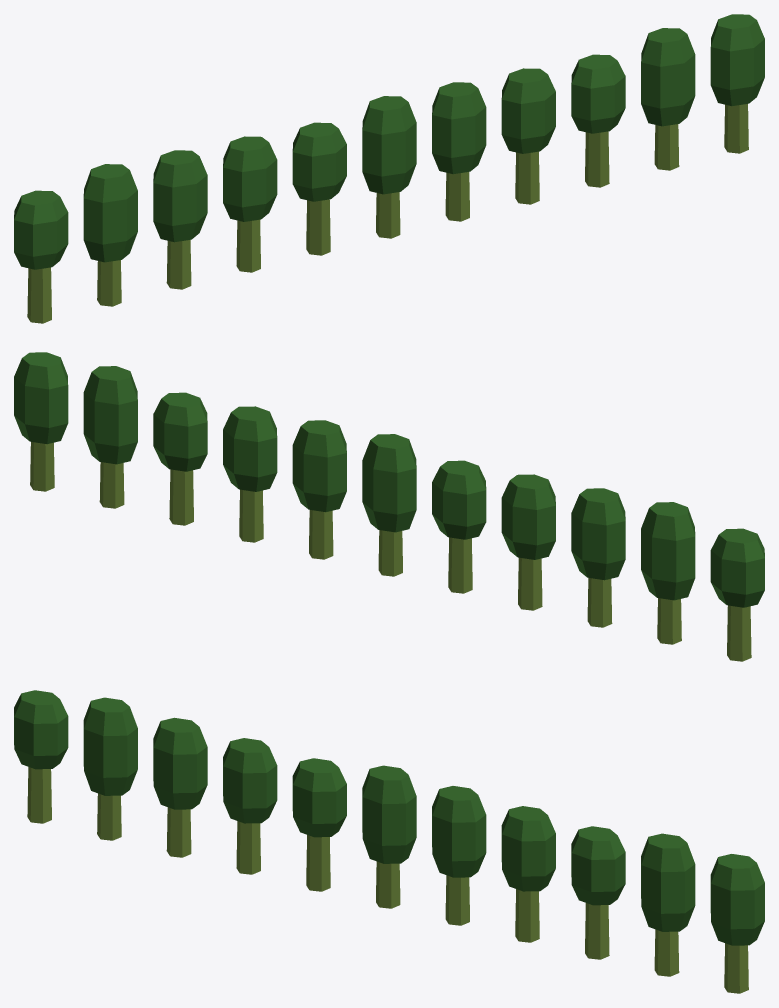
File: treekin_wall.glb
The picture shows the model from 3 angles, top to bottom: view 1: azimuth 30°, elevation 25°; view 2: azimuth 150°, elevation 25°; view 3: azimuth 330°, elevation 25°; orthographic projection.
Parts seen in each view (by area): view 1: treekin_wall; view 2: treekin_wall; view 3: treekin_wall.
Boxes of the visible parts, x1=… form: treekin_wall: x1=14, y1=14, x2=764, y2=323; treekin_wall: x1=14, y1=352, x2=764, y2=661; treekin_wall: x1=14, y1=690, x2=764, y2=993.
Bounding box in the file's own units: 6.08 × 1.01 × 0.3315.
